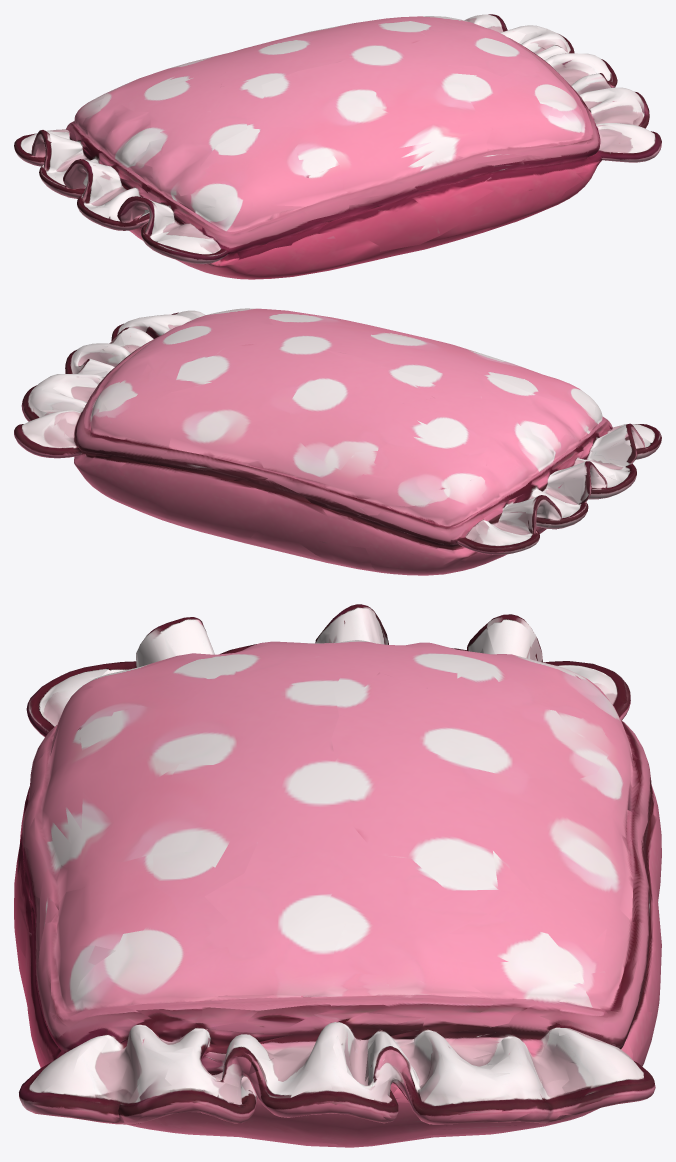
File: komi-weapon.fbx
The picture shows the model from 3 angles, top to bottom: view 1: azimuth 30°, elevation 25°; view 2: azimuth 150°, elevation 25°; view 3: azimuth 270°, elevation 25°; orthographic projection. The views are drawn at different scales.
Parts seen in each view (by area): view 1: komi_weapon; view 2: komi_weapon; view 3: komi_weapon.
Part boxes in pixels (x1,y1,x2,y2): komi_weapon: (14,14,661,279); komi_weapon: (14,308,661,575); komi_weapon: (14,604,661,1147).
Bounding box in the file's own units: 52 × 13.3 × 30.28.
1 material, 1 textured.
